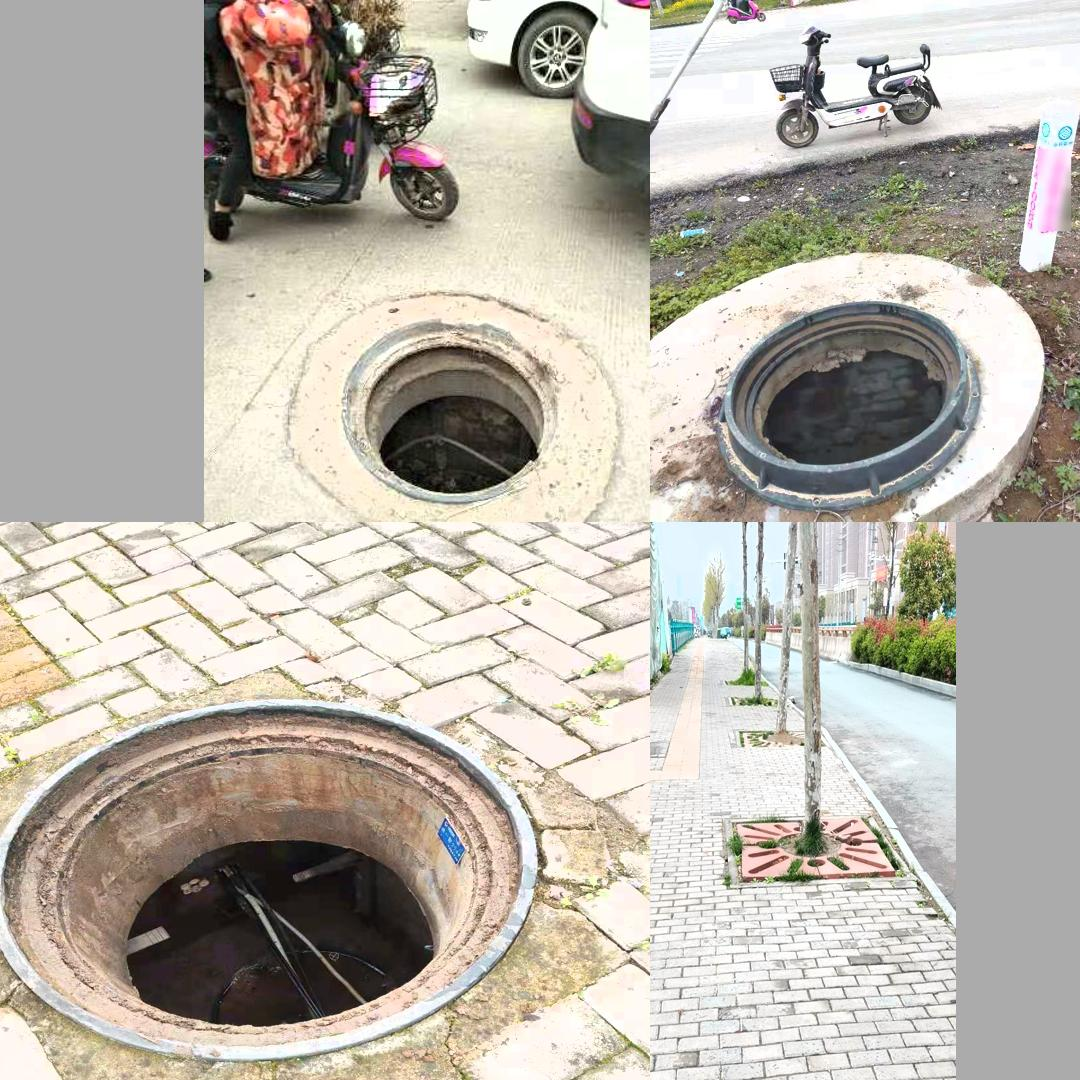lose: (0, 697, 540, 1065), (713, 302, 982, 514), (342, 315, 561, 500)
